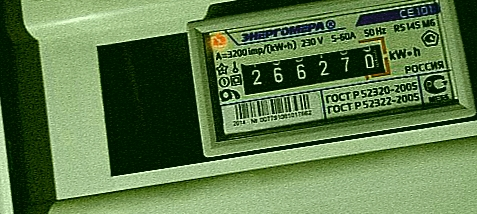0: (361, 51, 375, 70)
2: (247, 66, 262, 86), (315, 57, 329, 77)
6: (269, 64, 284, 84), (292, 62, 307, 81)
7: (338, 54, 351, 73)
screen: (228, 31, 396, 105)
